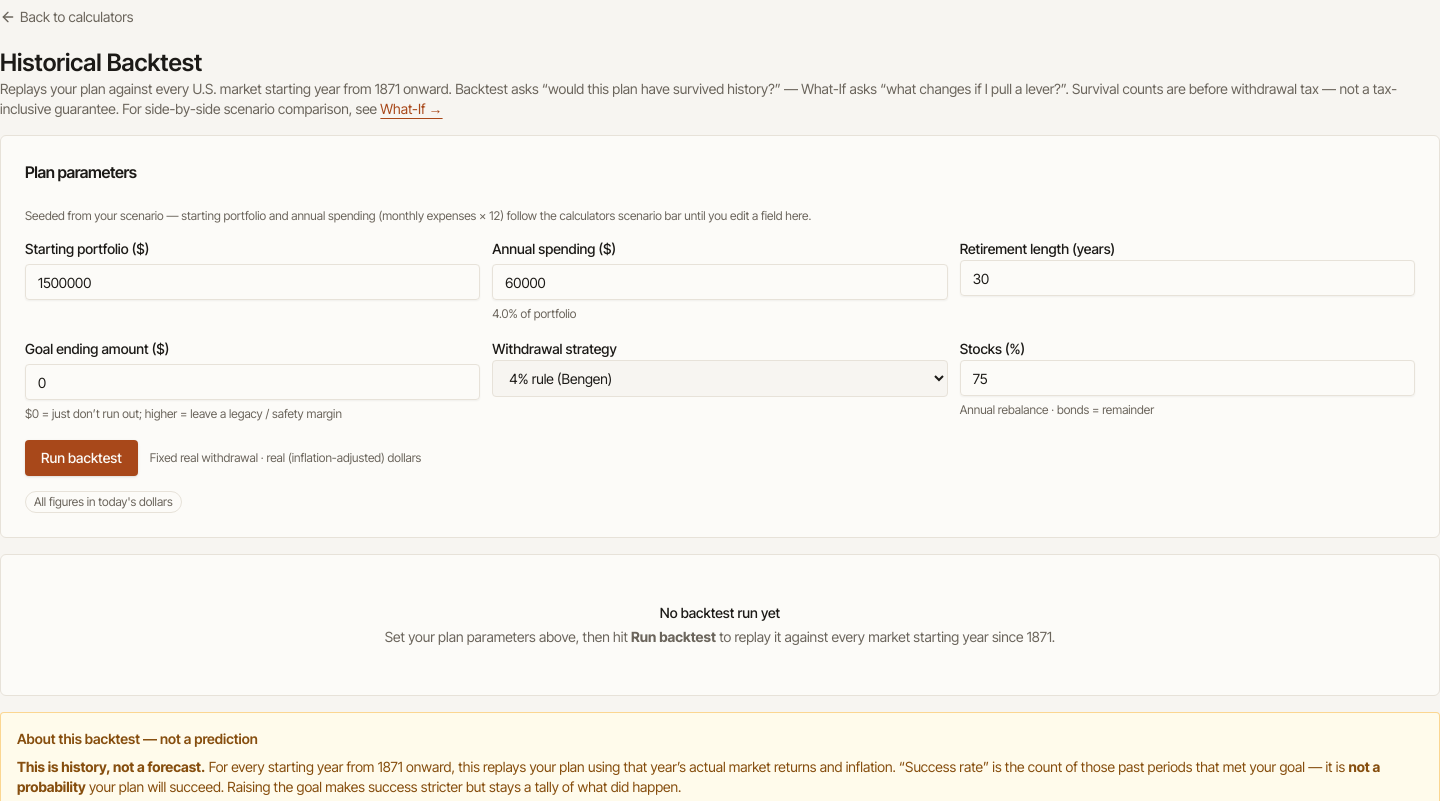
Test: Backtest page › C9/D3: a successful run writes the versioned last-run record to localStorage
The image size is (1440, 801).
Click the button "Run backtest". click: click(81, 458)
box: [25, 440, 138, 476]
(page scrolled)
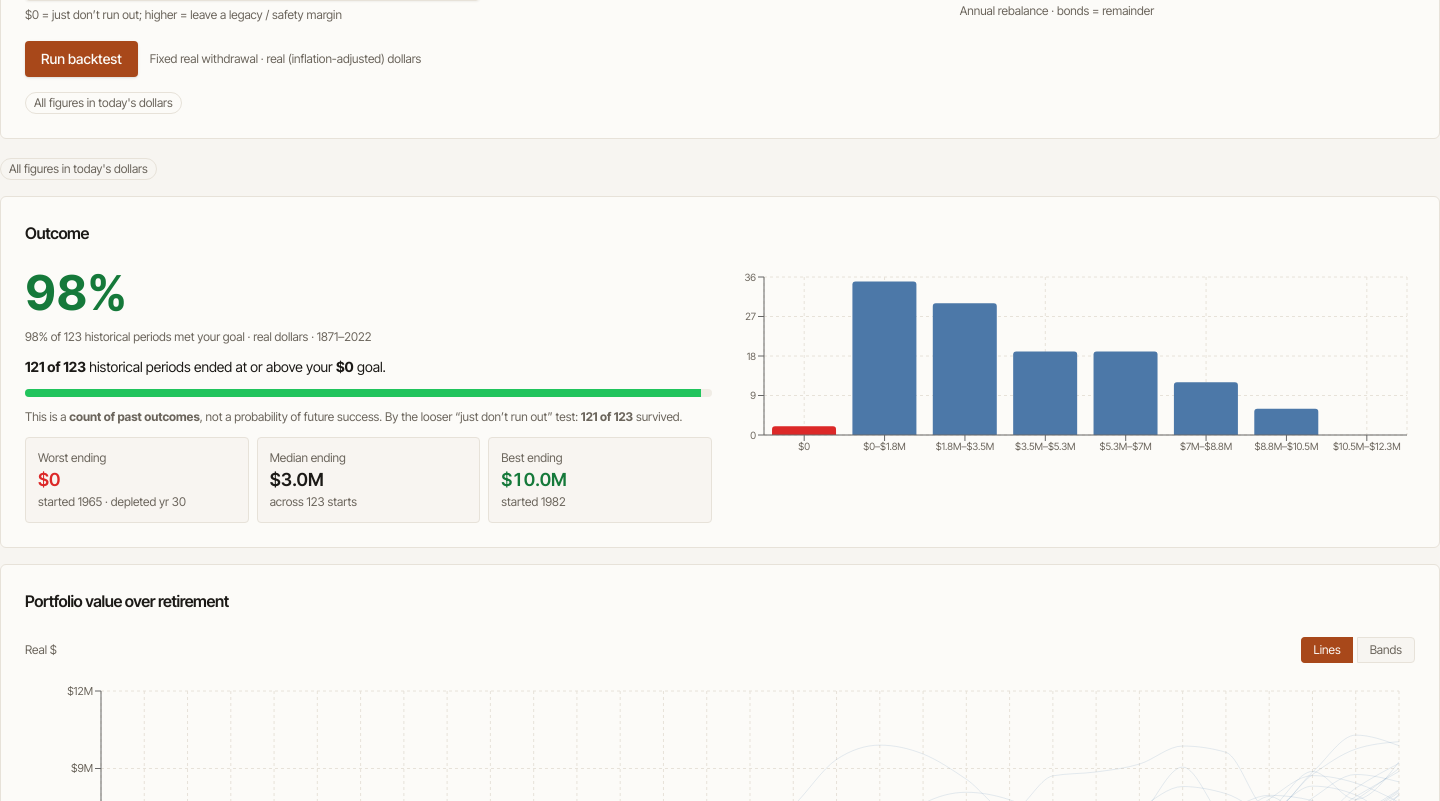
expect the element with test id "backtest-summary" is shown: met, box [25, 269, 712, 523]
